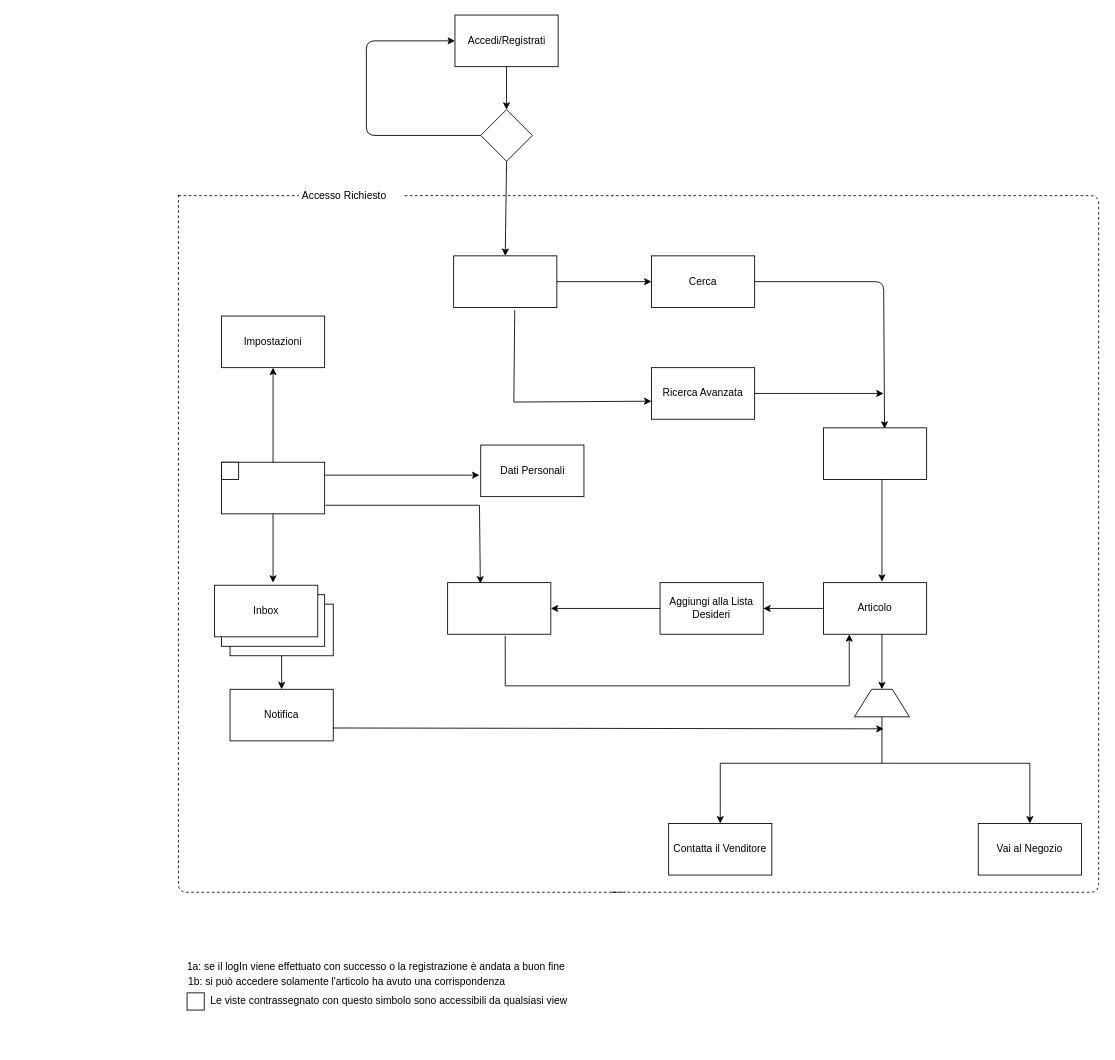
The diagram is 1115 pixels wide and 1060 high, and some of its shapes have lost their labels. Each missing label, with the box of its shape:
1a: (480, 109, 532, 161)
1b: (854, 688, 909, 717)
Home: (453, 255, 557, 307)
Lista Articoli: (823, 427, 927, 479)
Lista Desideri: (447, 582, 551, 634)
Profilo: (221, 461, 325, 514)
